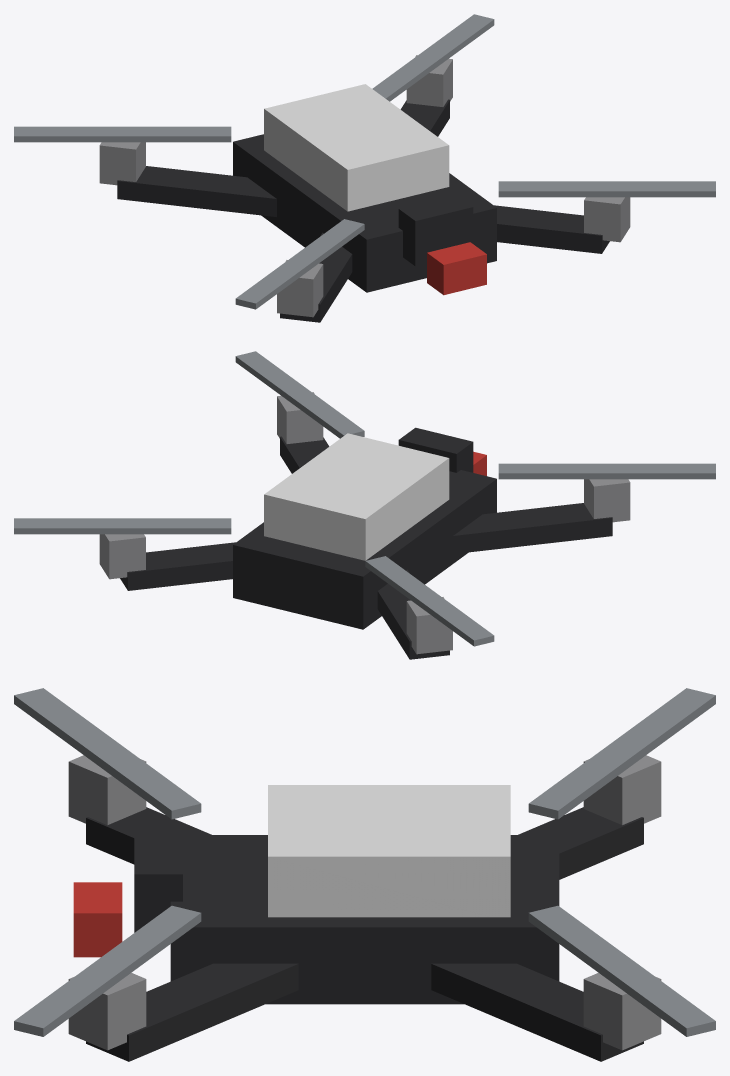
Rendered from fpv.glb.
3 views of the same model, one above another, from view 1: azimuth 30°, elevation 25°; view 2: azimuth 150°, elevation 25°; view 3: azimuth 270°, elevation 25° (orthographic). The views are drawn at different scales.
Visible parts, largest first — view 1: Body; view 2: Body; view 3: Body.
Part boxes in pixels (x1,y1,x2,y2): Body: (14,14,715,322); Body: (14,351,715,659); Body: (14,688,715,1061).
Size of the model in its own units: 0.3316 by 0.0625 by 0.2891.
